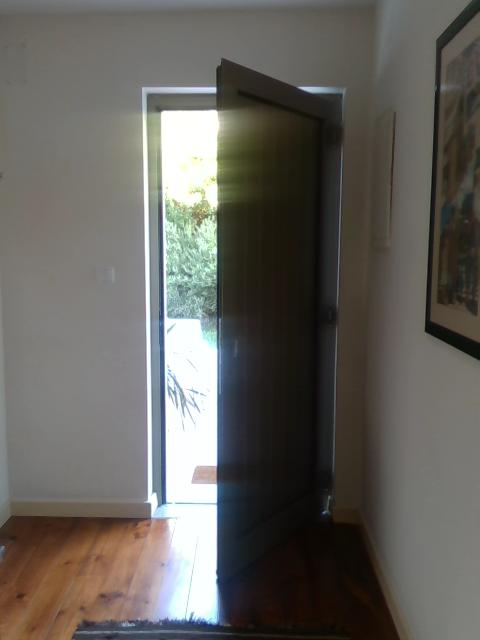semi_door: (147, 56, 346, 590)
